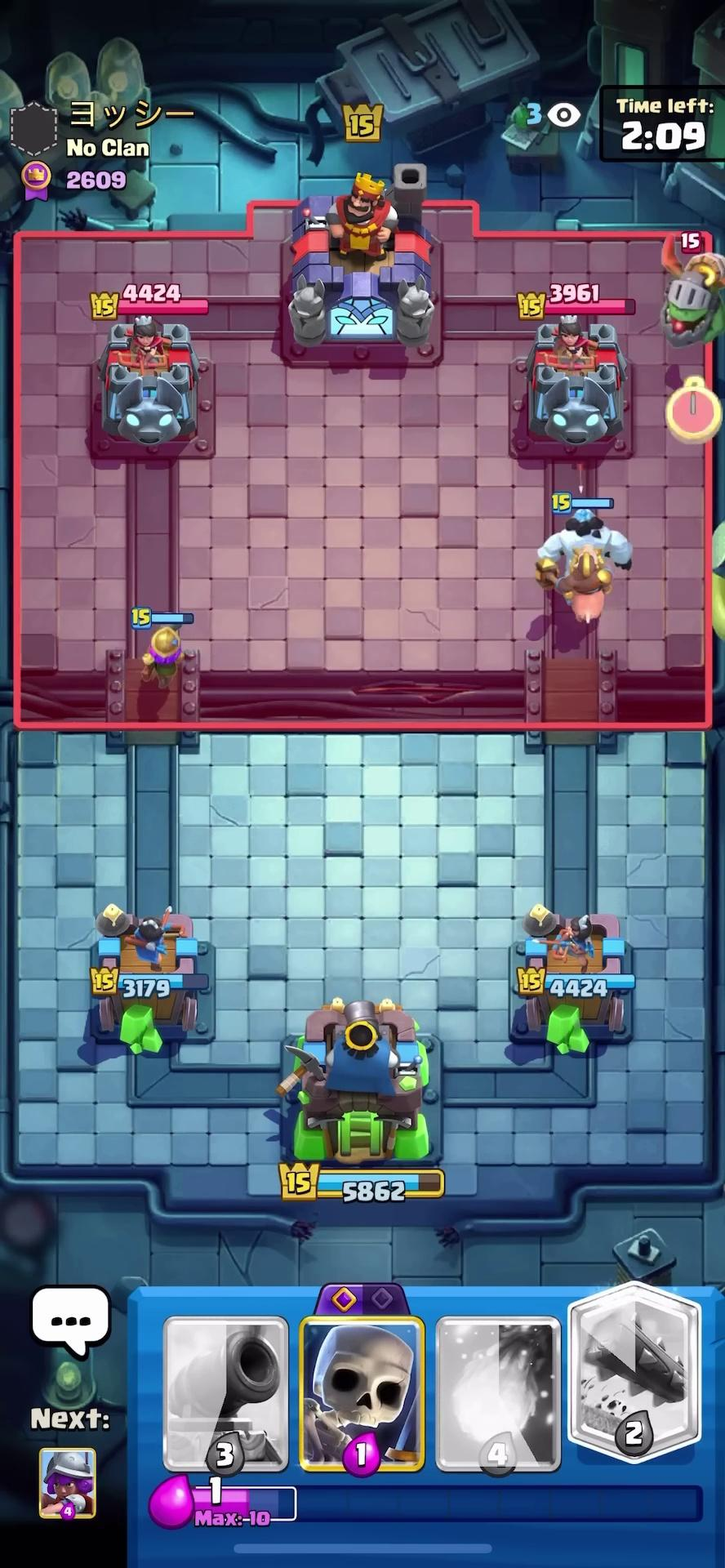hog_rider: (535, 543, 635, 639)
ice_golem: (523, 502, 639, 576)
musketeer: (129, 602, 206, 680)
